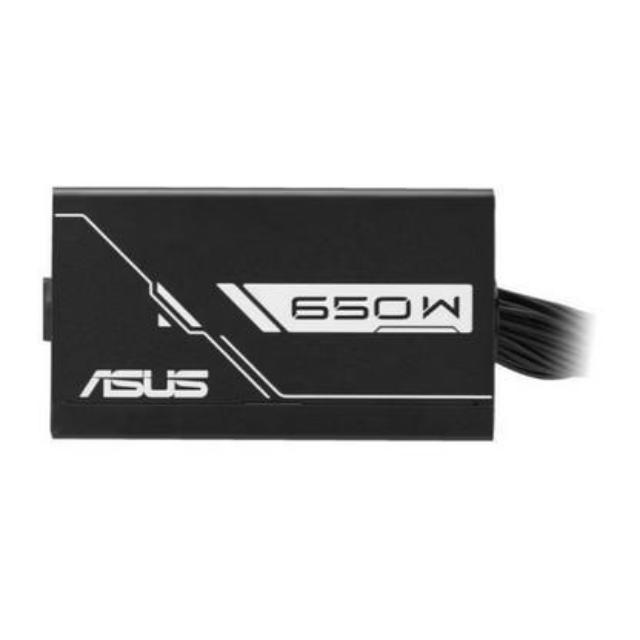PSU: (31, 159, 528, 467)
